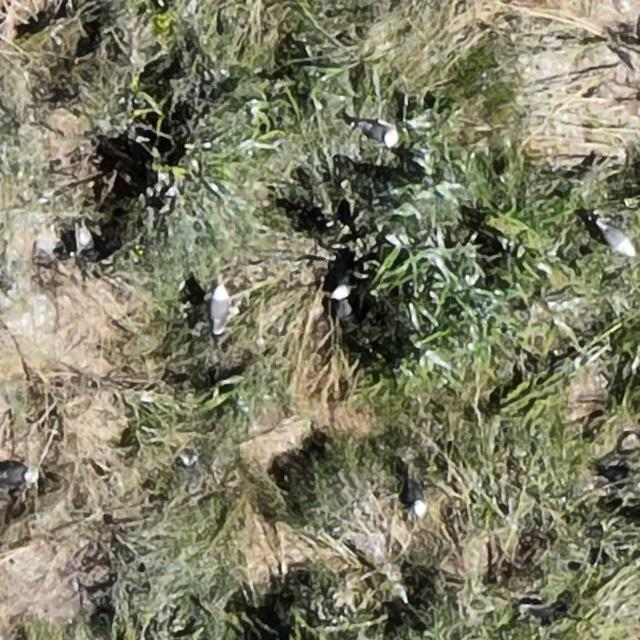umineko: (601, 225, 634, 255), (74, 227, 100, 260), (358, 124, 395, 146), (212, 288, 230, 328), (408, 485, 426, 518), (0, 467, 32, 485), (332, 281, 352, 300)
